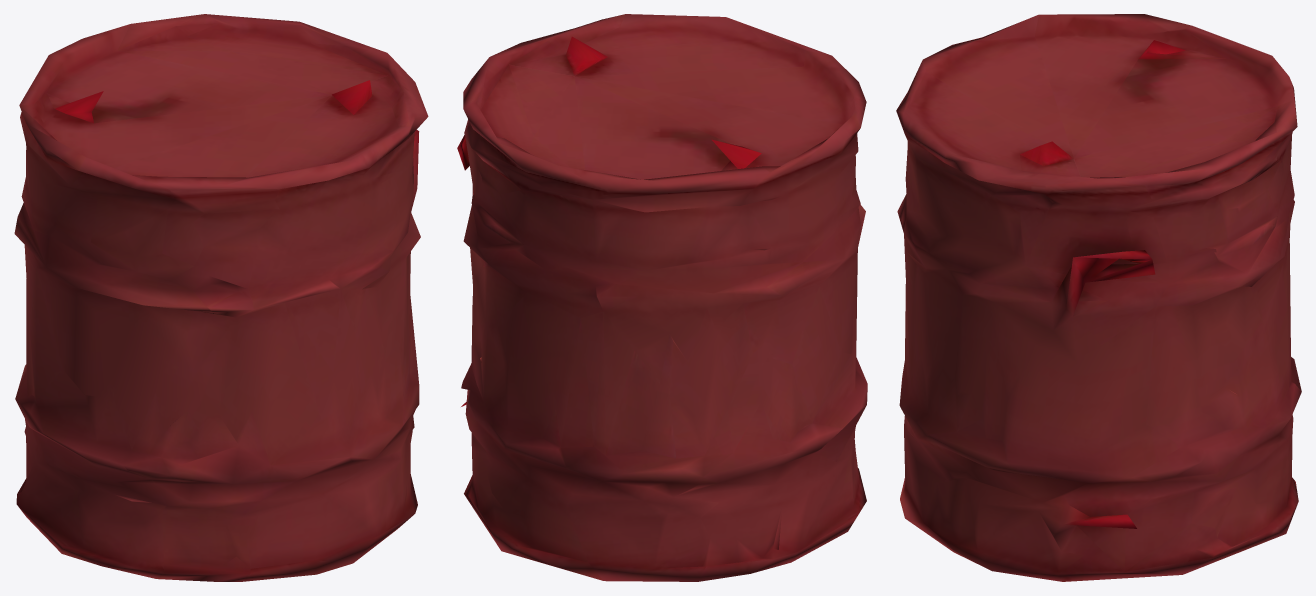
The model's file is barrel.glb.
3 renders of one model, left to right at view 1: azimuth 30°, elevation 25°; view 2: azimuth 150°, elevation 25°; view 3: azimuth 270°, elevation 25°, orthographic.
Parts seen in each view (by area): view 1: tripo_node_80d0bdcf-070f-4d85-960b-69a6f6285187; view 2: tripo_node_80d0bdcf-070f-4d85-960b-69a6f6285187; view 3: tripo_node_80d0bdcf-070f-4d85-960b-69a6f6285187.
Boxes of the visible parts, box(x1,y1,x2,y2) form: tripo_node_80d0bdcf-070f-4d85-960b-69a6f6285187: box(14, 14, 428, 581); tripo_node_80d0bdcf-070f-4d85-960b-69a6f6285187: box(457, 14, 867, 581); tripo_node_80d0bdcf-070f-4d85-960b-69a6f6285187: box(896, 14, 1301, 581).
Bounding box in the file's own units: 0.9228 × 1 × 0.8878.
1 material, 1 textured.
